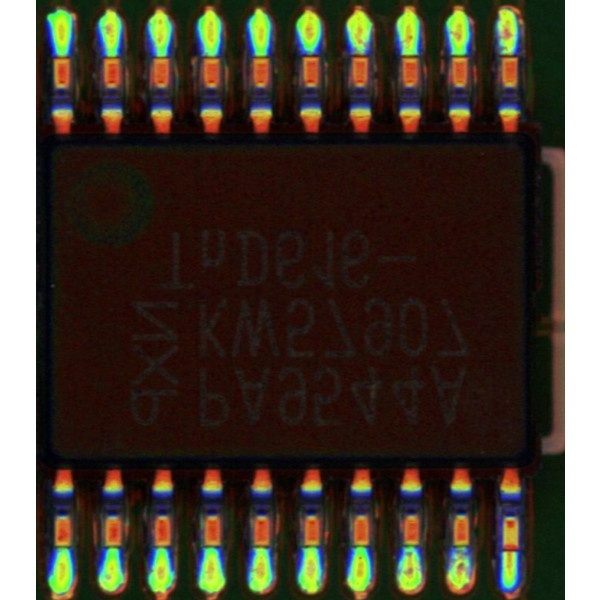Bad_podu: (504, 542, 517, 560)
